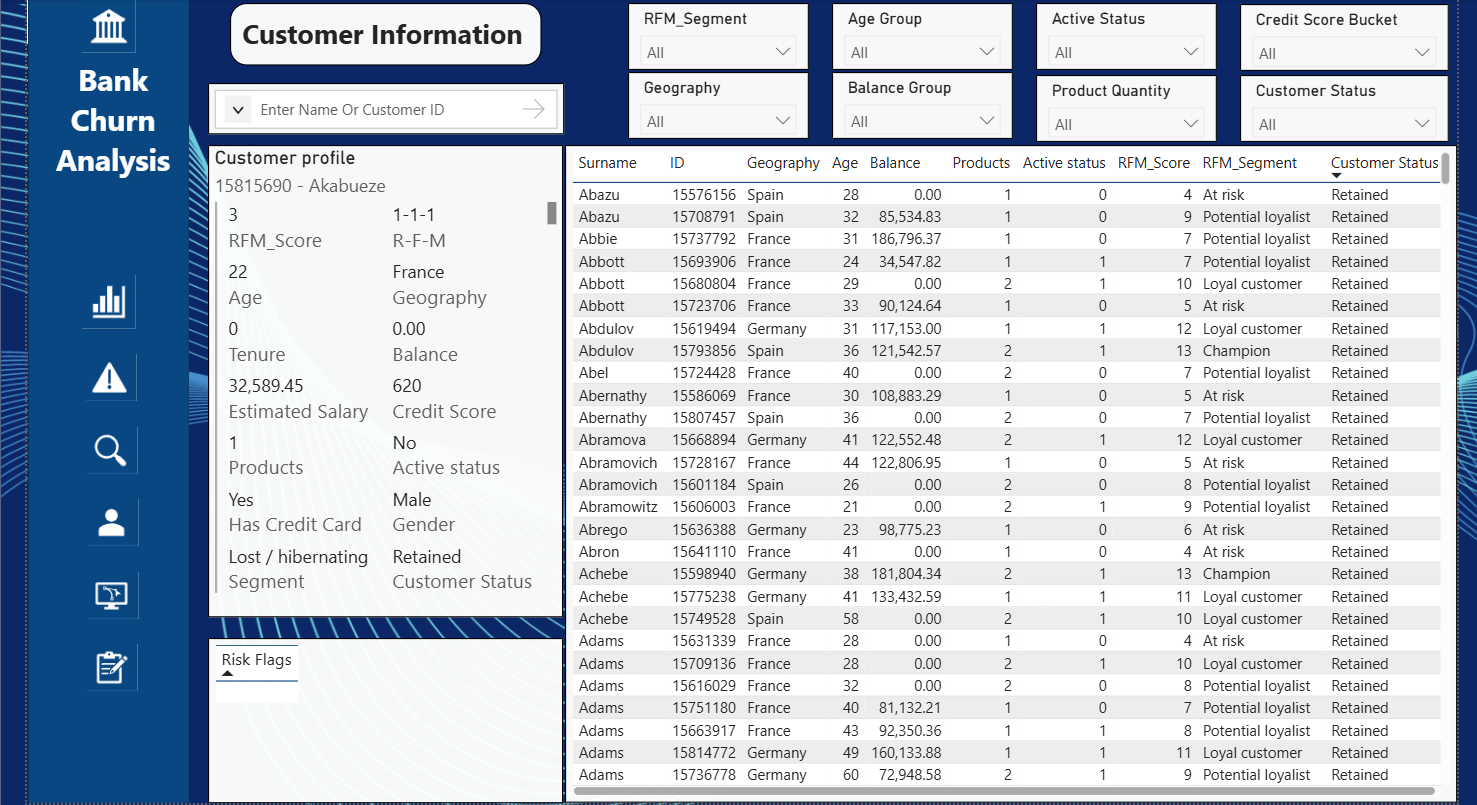

The dashboard page shown, as its layout file describes it:
{"tool":"powerbi","page":{"name":"👤Customer Analysis","canvas":[1280,720],"ordinal":3},"visuals":[{"type":"textbox","box":[181.8,3.6,279.4,56.4],"z":0},{"type":"actionButton","box":[0,0,100,40],"z":1000},{"type":"multiRowCard","title":"Customer profile","fields":{"Values":["rfm_master_table.RFM_Score","rfm_master_table_1.RFM_Cell","Bank_Churn.Age","Bank_Churn.Geography","rfm_master_table.Tenure","Bank_Churn.Balance","rfm_master_table.EstimatedSalary","Bank_Churn.CreditScore","rfm_master_table.NumOfProducts","rfm_master_table.IsActive Status","rfm_master_table_1.Has Credit Card Status","Bank_Churn.Gender"]},"box":[162.4,130.3,318.1,423.1],"z":2000},{"type":"textSlicer","fields":{"Values":["rfm_master_table.Customer Search"]},"box":[162.4,74.9,319,45.7],"z":3000},{"type":"shape","box":[0.9,0,144.2,720.9],"z":4000},{"type":"tableEx","title":"Risk profile flags","fields":{"Values":["rfm_master_table.Risk Flags"]},"box":[162.4,571.9,318.1,147.8],"z":5000},{"type":"tableEx","fields":{"Values":["Bank_Churn.Surname","Bank_Churn.CustomerId","Bank_Churn.Geography","Bank_Churn.Age","Bank_Churn.Balance","Bank_Churn.NumOfProducts","Bank_Churn.IsActiveMember","Sum(rfm_master_table.RFM_Score)","rfm_master_table.RFM_Segment","rfm_master_table_1.Customer Status"]},"box":[481.5,130.3,798.5,589.4],"z":6000},{"type":"slicer","fields":{"Values":["rfm_master_table_1.Geography"]},"box":[537.9,65.2,162.4,60.3],"z":7000},{"type":"slicer","fields":{"Values":["rfm_master_table_1.IsActive Status"]},"box":[903.6,3.9,162.4,60.3],"z":8000},{"type":"slicer","fields":{"Values":["rfm_master_table.RFM_Segment"]},"box":[537.9,3.9,162.4,60.3],"z":9000},{"type":"slicer","fields":{"Values":["rfm_master_table_1.Age Group"]},"box":[720.7,3.9,162.4,60.3],"z":10000},{"type":"slicer","fields":{"Values":["rfm_master_table_1.Balance Group"]},"box":[720.7,65.2,162.4,60.3],"z":11000},{"type":"slicer","fields":{"Values":["rfm_master_table_1.Customer Status"]},"box":[1086.4,68.1,186.7,60.3],"z":12000},{"type":"slicer","fields":{"Values":["rfm_master_table_1.Credit Score Bucket"]},"box":[1086.4,4.9,186.7,60.3],"z":13000},{"type":"slicer","fields":{"Values":["rfm_master_table_1.NumOfProducts"]},"box":[903.6,68.1,162.4,60.3],"z":14000},{"type":"actionButton","box":[49.3,247.2,48.4,48.4],"z":15000},{"type":"actionButton","box":[53.9,383.1,44.8,42.1],"z":16000},{"type":"actionButton","box":[54.3,512.8,44.8,42.1],"z":17000},{"type":"actionButton","box":[53.2,318.3,44.8,42.1],"z":18000},{"type":"actionButton","box":[54.6,447.9,44.8,42.1],"z":19000},{"type":"actionButton","box":[53.6,577.6,44.8,42.1],"z":20000},{"type":"textbox","box":[7.2,48.4,139.7,128.1],"z":21000},{"type":"actionButton","box":[49.3,0,48.4,48.4],"z":22000}]}

Visuals, with their boxes in screenshot pixels (x1, y1, x2, y2):
textbox: bbox=(231, 4, 539, 66)
actionButton: bbox=(31, 0, 141, 44)
"Customer profile" multiRowCard: bbox=(210, 143, 560, 609)
textSlicer - rfm_master_table.Customer Search: bbox=(210, 82, 561, 133)
shape: bbox=(32, 0, 191, 794)
"Risk profile flags" tableEx: bbox=(210, 630, 560, 792)
tableEx - Bank_Churn.Surname x Bank_Churn.CustomerId: bbox=(561, 143, 1440, 792)
slicer - rfm_master_table_1.Geography: bbox=(623, 72, 802, 138)
slicer - rfm_master_table_1.IsActive Status: bbox=(1026, 4, 1205, 71)
slicer - rfm_master_table.RFM_Segment: bbox=(623, 4, 802, 71)
slicer - rfm_master_table_1.Age Group: bbox=(824, 4, 1003, 71)
slicer - rfm_master_table_1.Balance Group: bbox=(824, 72, 1003, 138)
slicer - rfm_master_table_1.Customer Status: bbox=(1227, 75, 1433, 141)
slicer - rfm_master_table_1.Credit Score Bucket: bbox=(1227, 5, 1433, 72)
slicer - rfm_master_table_1.NumOfProducts: bbox=(1026, 75, 1205, 141)
actionButton: bbox=(85, 272, 138, 325)
actionButton: bbox=(90, 422, 139, 468)
actionButton: bbox=(91, 565, 140, 611)
actionButton: bbox=(89, 350, 139, 397)
actionButton: bbox=(91, 493, 140, 540)
actionButton: bbox=(90, 636, 139, 682)
textbox: bbox=(39, 53, 193, 194)
actionButton: bbox=(85, 0, 138, 53)
